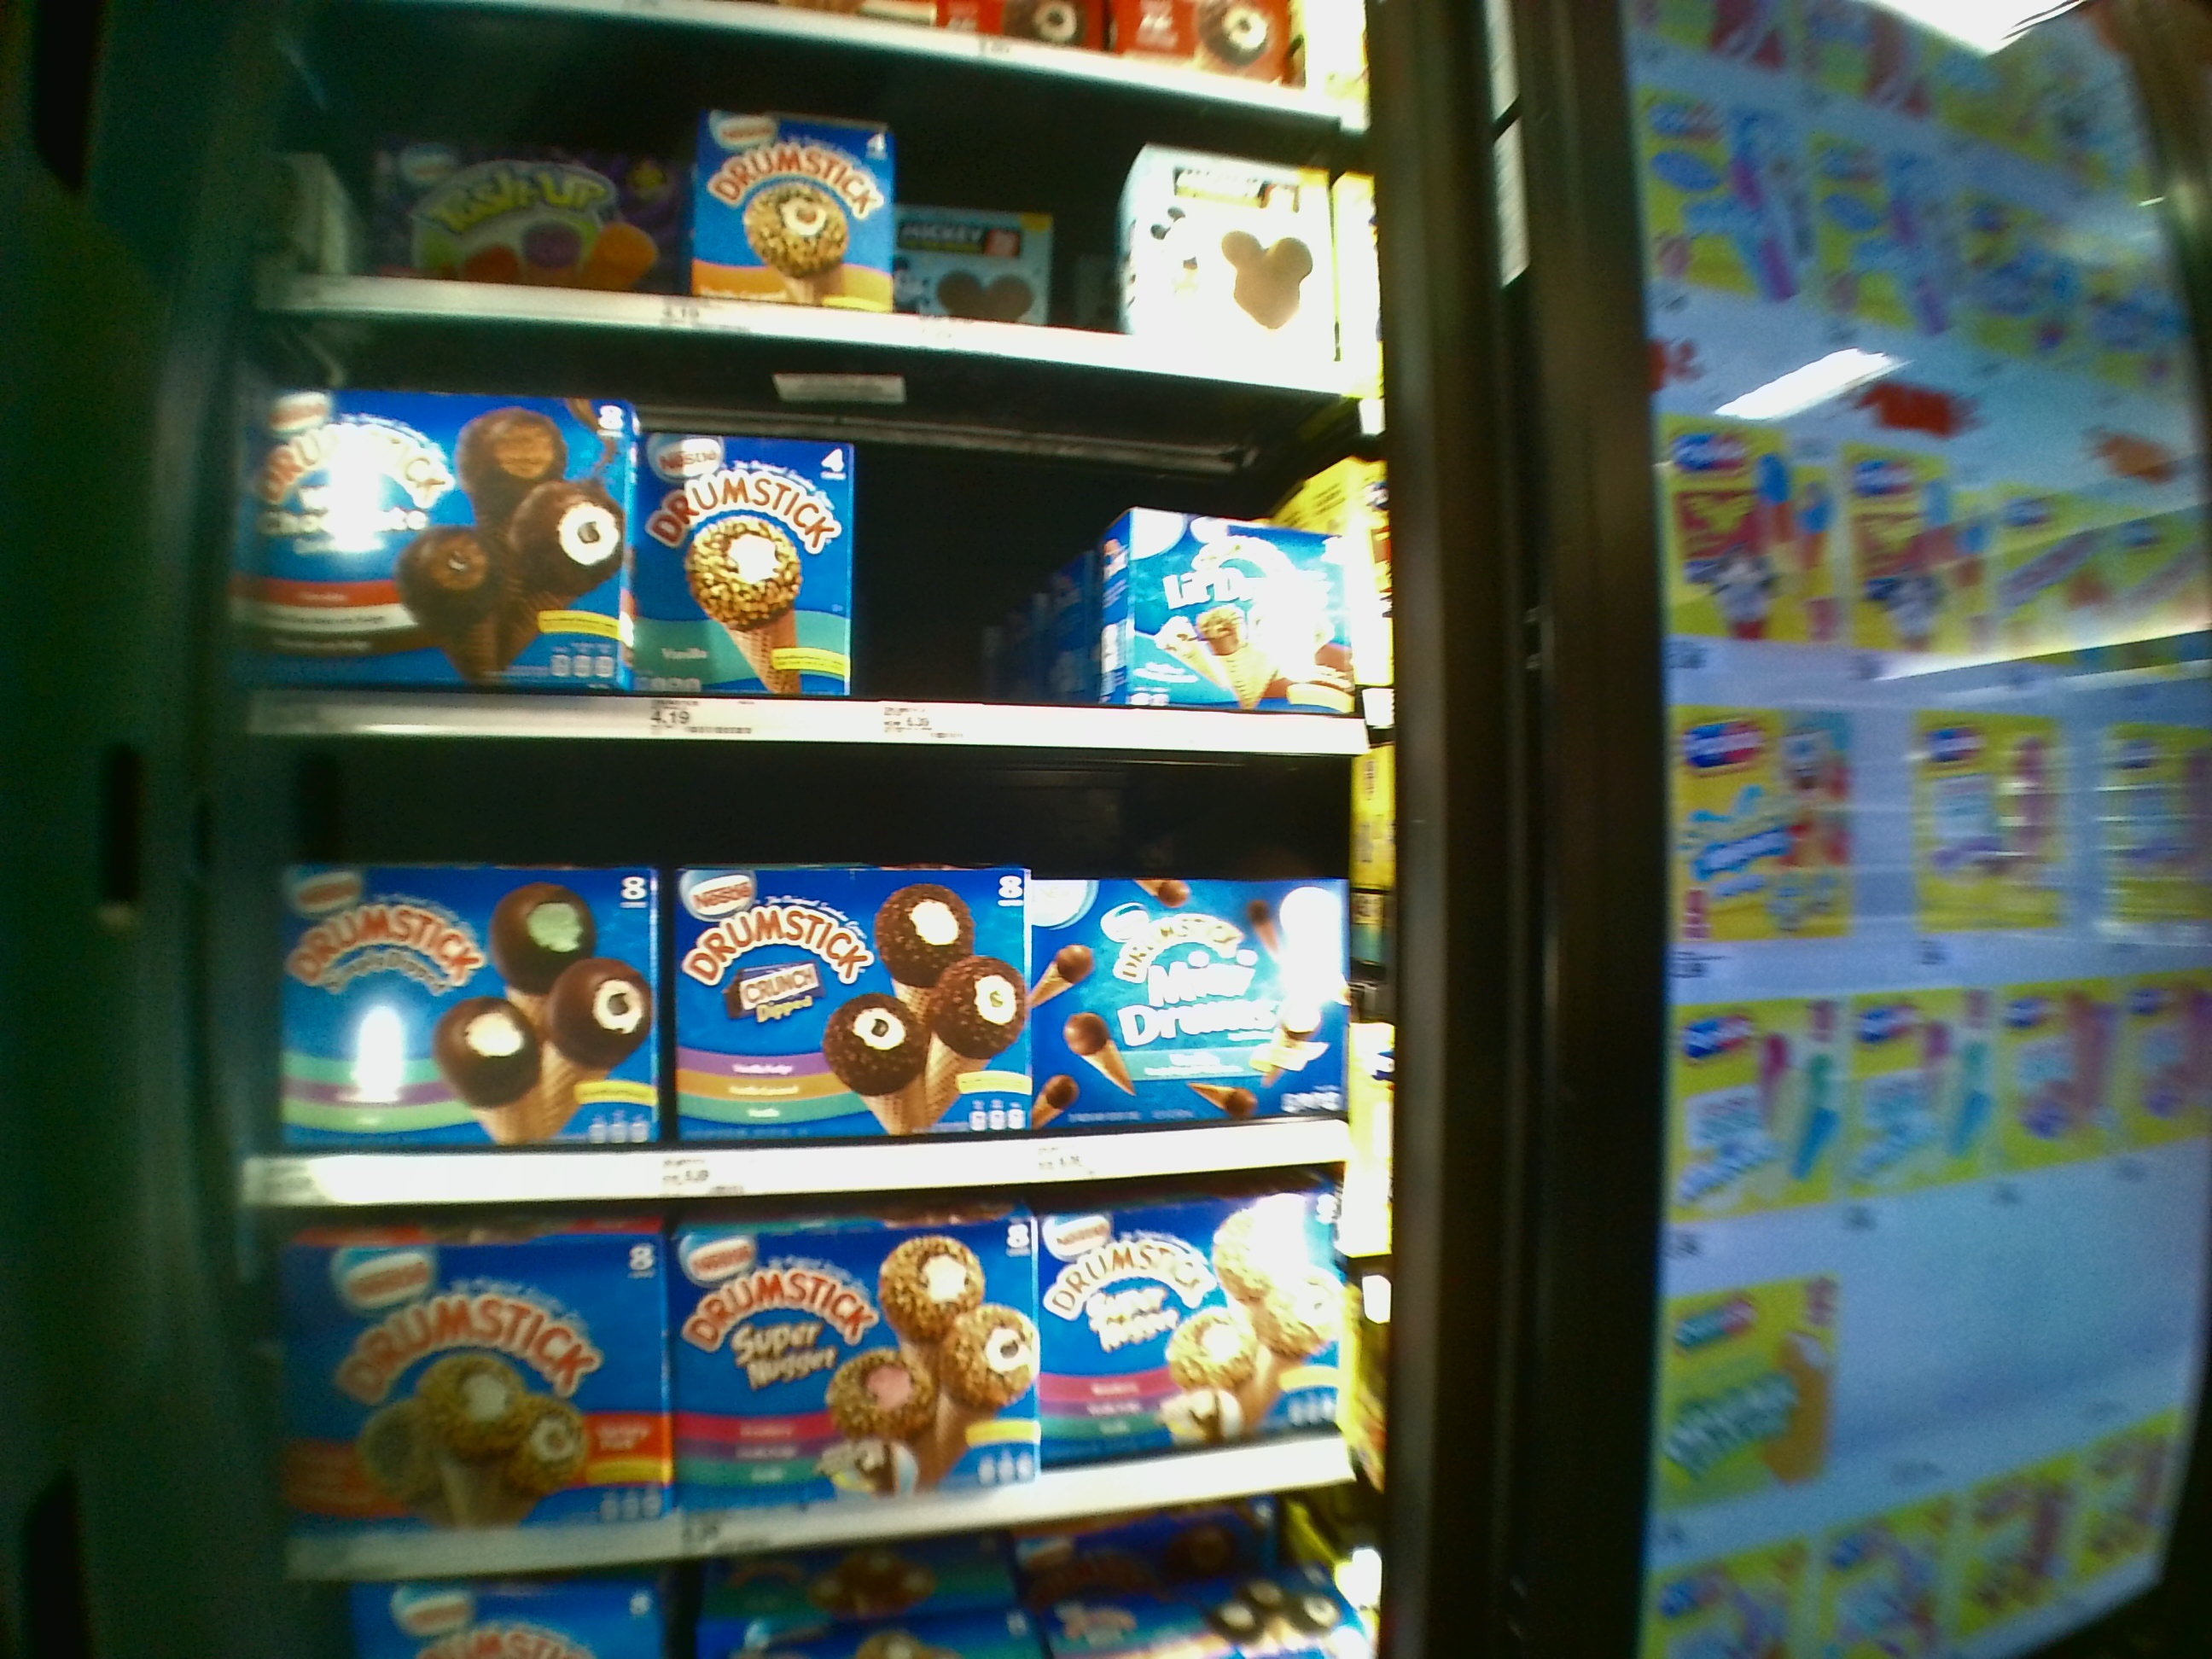shelf: (247, 756, 1378, 1201), (254, 361, 1374, 756), (275, 1211, 1369, 1560)
